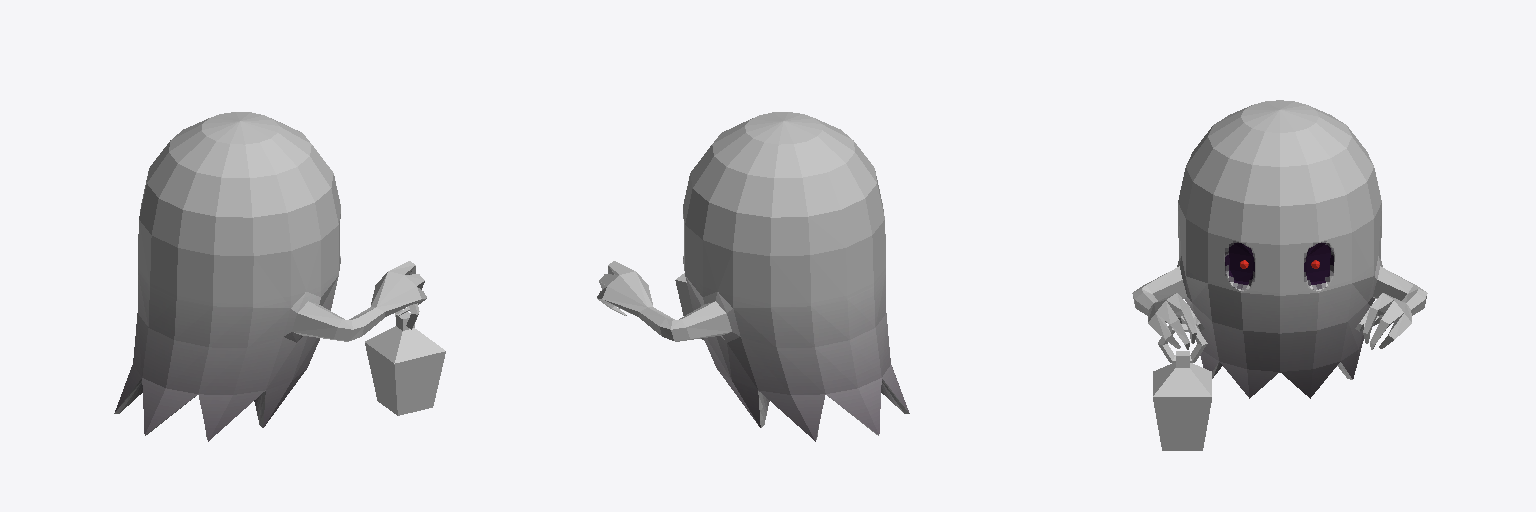
The picture shows the model from 3 angles: view 1: azimuth 30°, elevation 25°; view 2: azimuth 150°, elevation 25°; view 3: azimuth 270°, elevation 25°; orthographic projection.
Visible parts, largest first — view 1: ghost, lantern; view 2: ghost; view 3: ghost, lantern.
Boxes of the visible parts, x1=… form: ghost: x1=114, y1=112, x2=426, y2=441; lantern: x1=365, y1=303, x2=445, y2=415; ghost: x1=597, y1=112, x2=909, y2=441; ghost: x1=1132, y1=100, x2=1427, y2=398; lantern: x1=1153, y1=324, x2=1211, y2=450.
Size of the model in its own units: 0.7161 by 0.7496 by 0.7238.
2 materials, 1 textured.